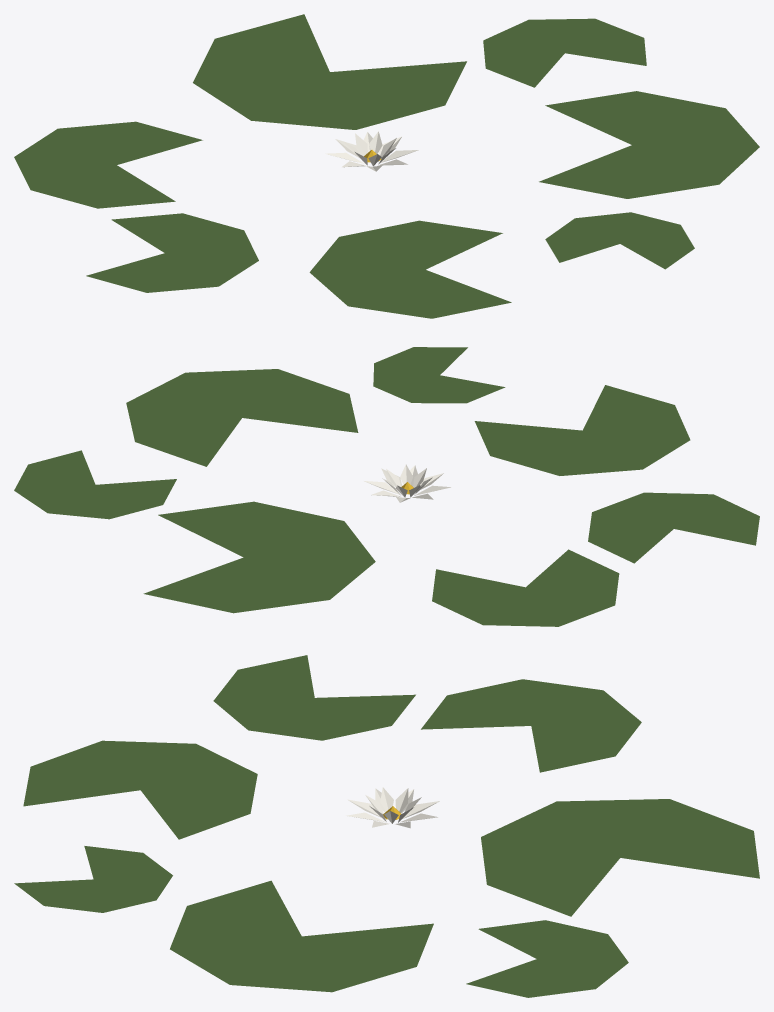
Rendered from lily_cluster_b.glb.
3 renders of one model, top to bottom at view 1: azimuth 30°, elevation 25°; view 2: azimuth 150°, elevation 25°; view 3: azimuth 270°, elevation 25°, orthographic. The views are drawn at different scales.
Visible parts, largest first — view 1: lily_cluster_b_lod0; view 2: lily_cluster_b_lod0; view 3: lily_cluster_b_lod0.
Part boxes in pixels (x1,y1,x2,y2): lily_cluster_b_lod0: (14, 14, 759, 318); lily_cluster_b_lod0: (14, 347, 759, 626); lily_cluster_b_lod0: (14, 655, 759, 997).
Size of what is drawn, in the model's own units: 2.63 by 0.0917 by 2.42.
